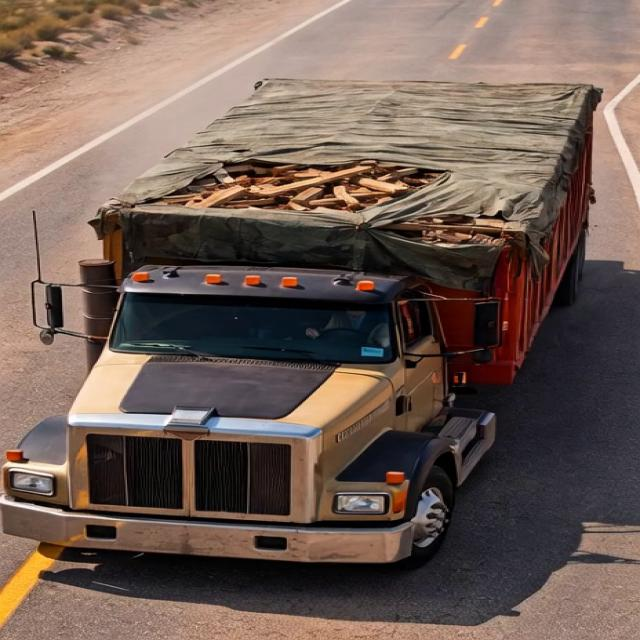Box: (93, 73, 590, 243)
Truck: (6, 55, 631, 556)
